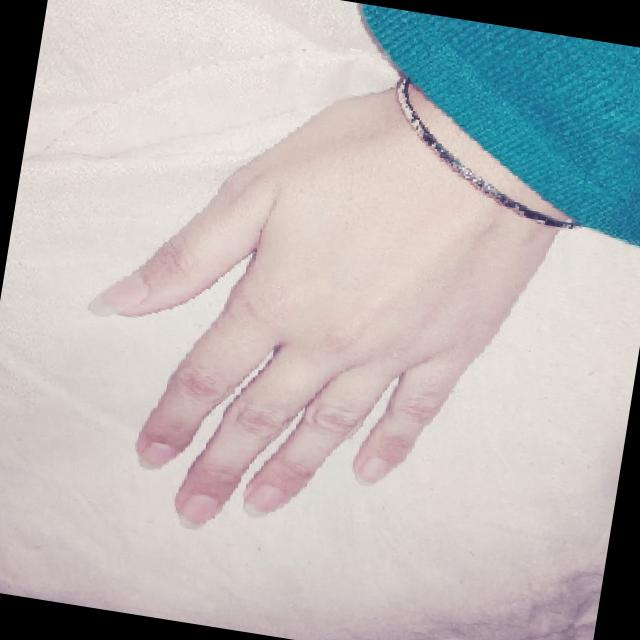Nail: (88, 270, 148, 316), (242, 483, 287, 516), (177, 493, 219, 527), (139, 441, 178, 467), (355, 457, 392, 484)
